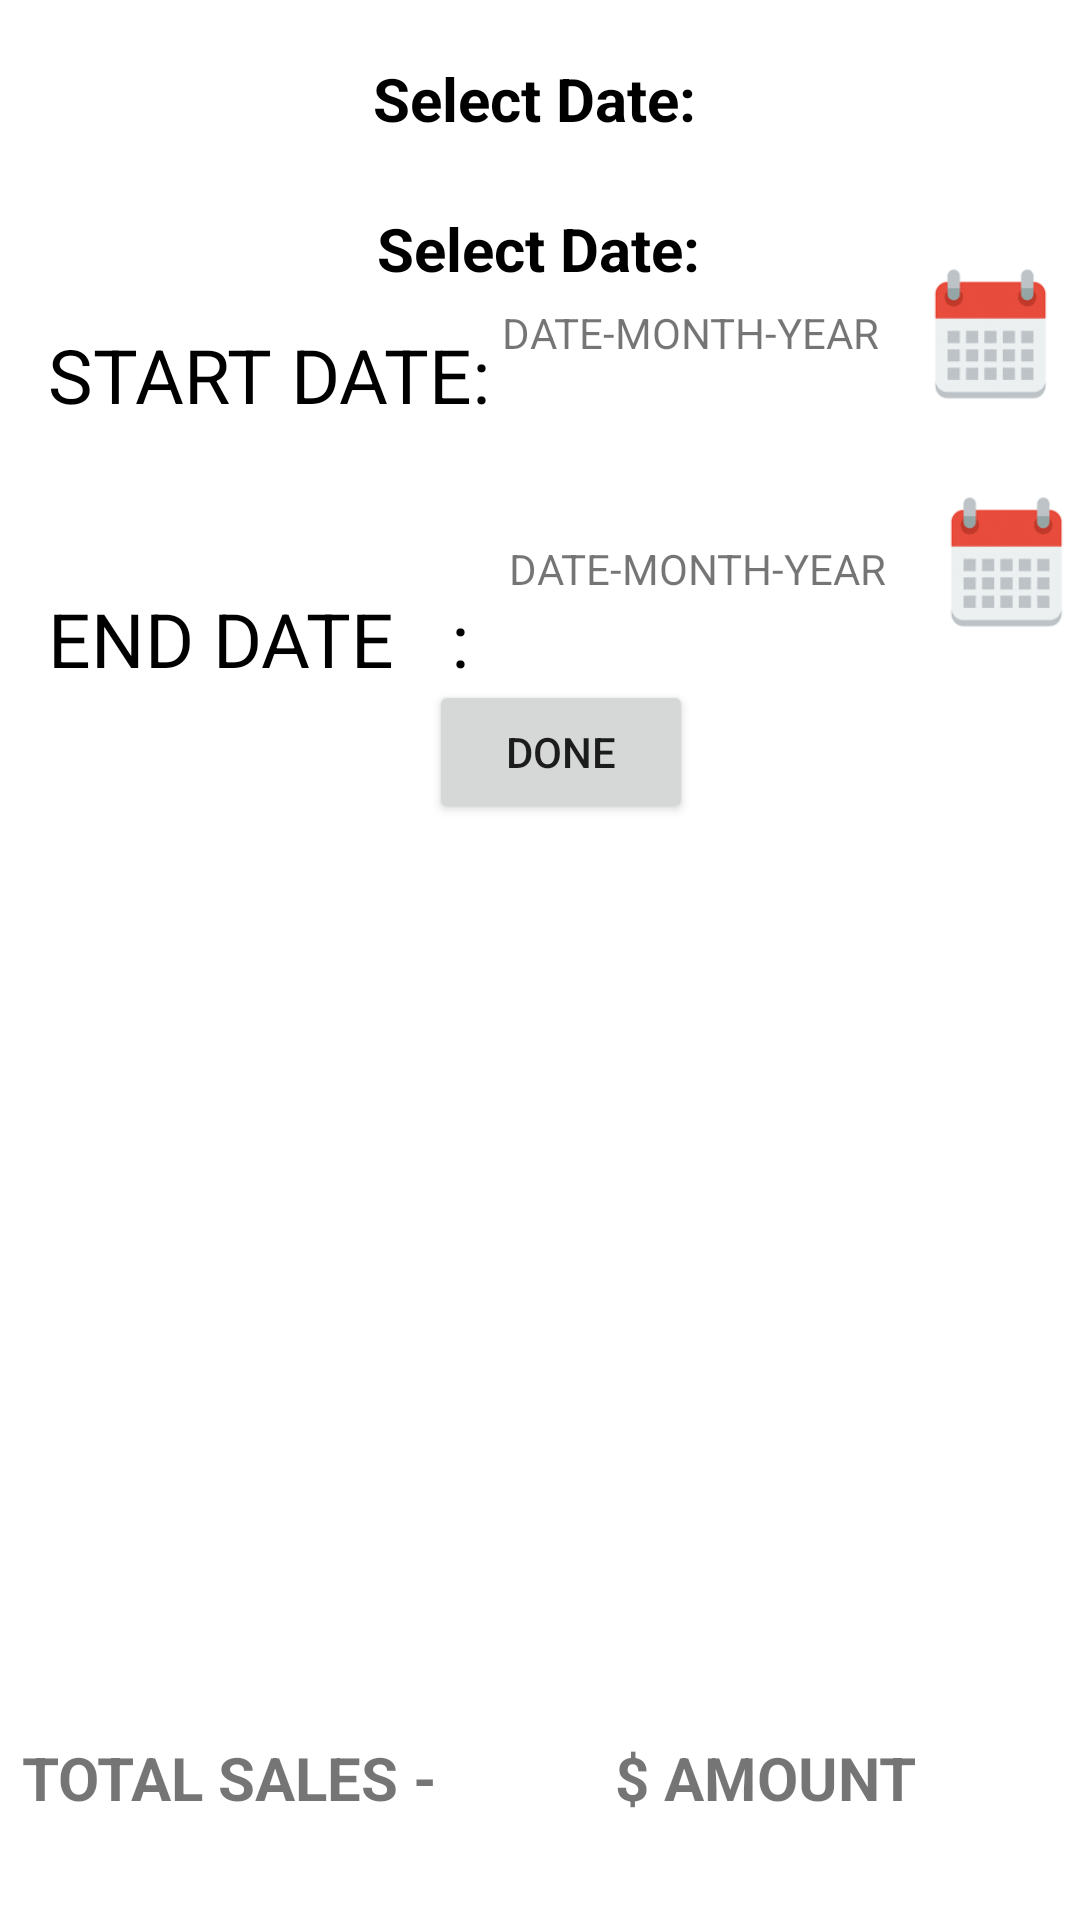

Icon bounding boxes for this 1080px x 1920px phone screenshot, format (x1, y1, x2, y2):
calender: (935, 269, 1046, 399), (951, 497, 1062, 627)
